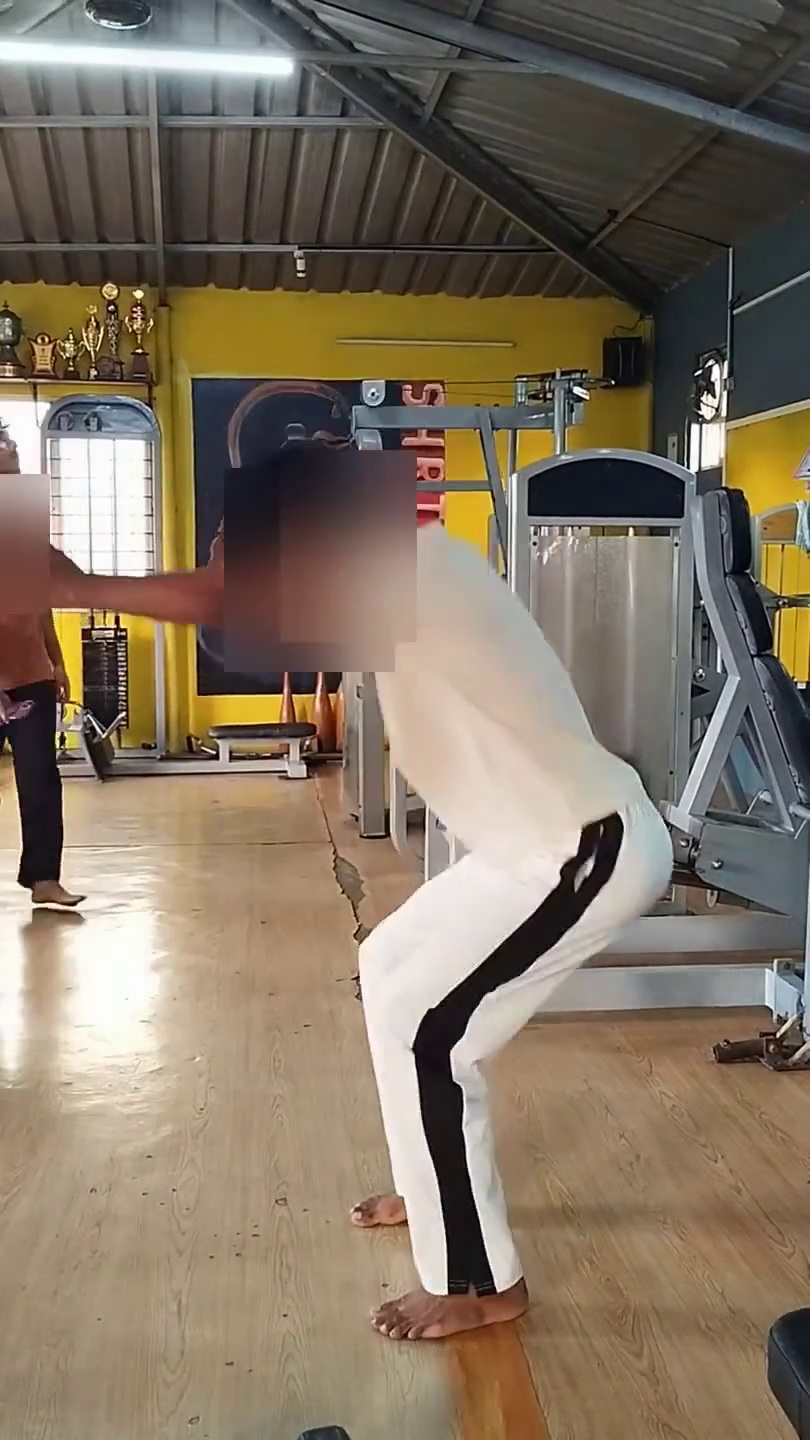squat: (320, 771, 698, 1362)
